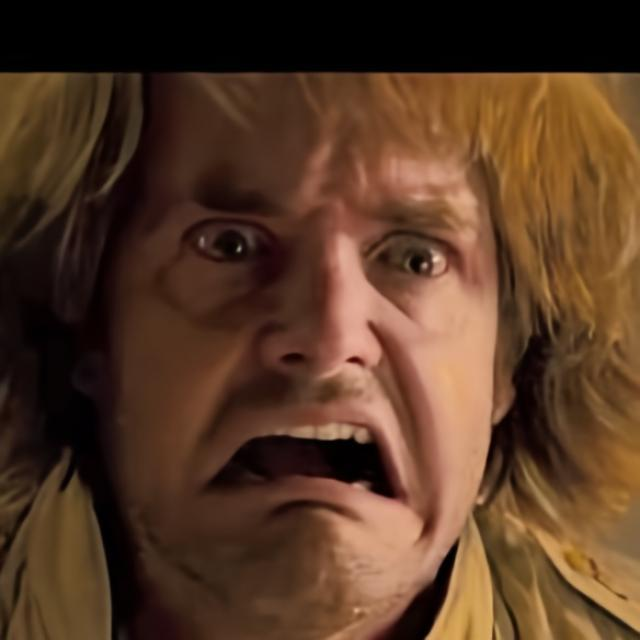disgust: (96, 74, 503, 640)
